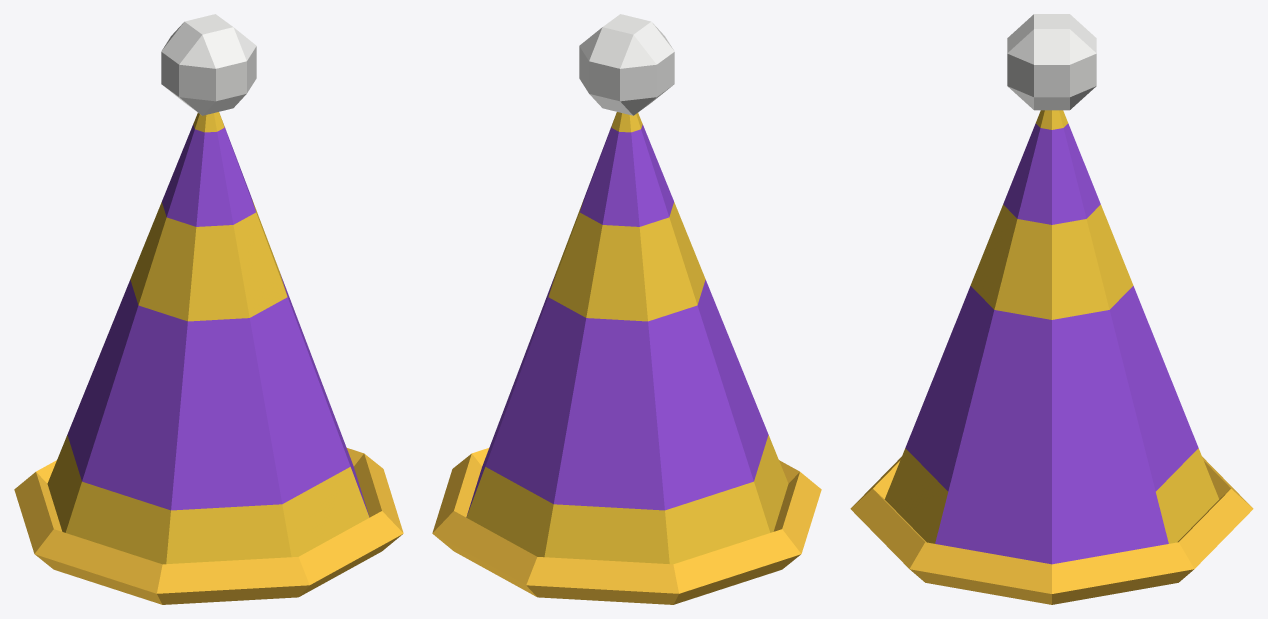
The model's file is PartyHat.fbx.
The picture shows the model from 3 angles, left to right: view 1: azimuth 30°, elevation 25°; view 2: azimuth 150°, elevation 25°; view 3: azimuth 270°, elevation 25°; orthographic projection.
Parts seen in each view (by area): view 1: PartyHat; view 2: PartyHat; view 3: PartyHat.
Part boxes in pixels (left/top/right/bottom): PartyHat: left=14, top=14, right=403, bottom=604; PartyHat: left=432, top=14, right=821, bottom=604; PartyHat: left=850, top=14, right=1253, bottom=604.
Bounding box in the file's own units: 1.8 × 2.5 × 1.8.
1 material, 1 textured.
